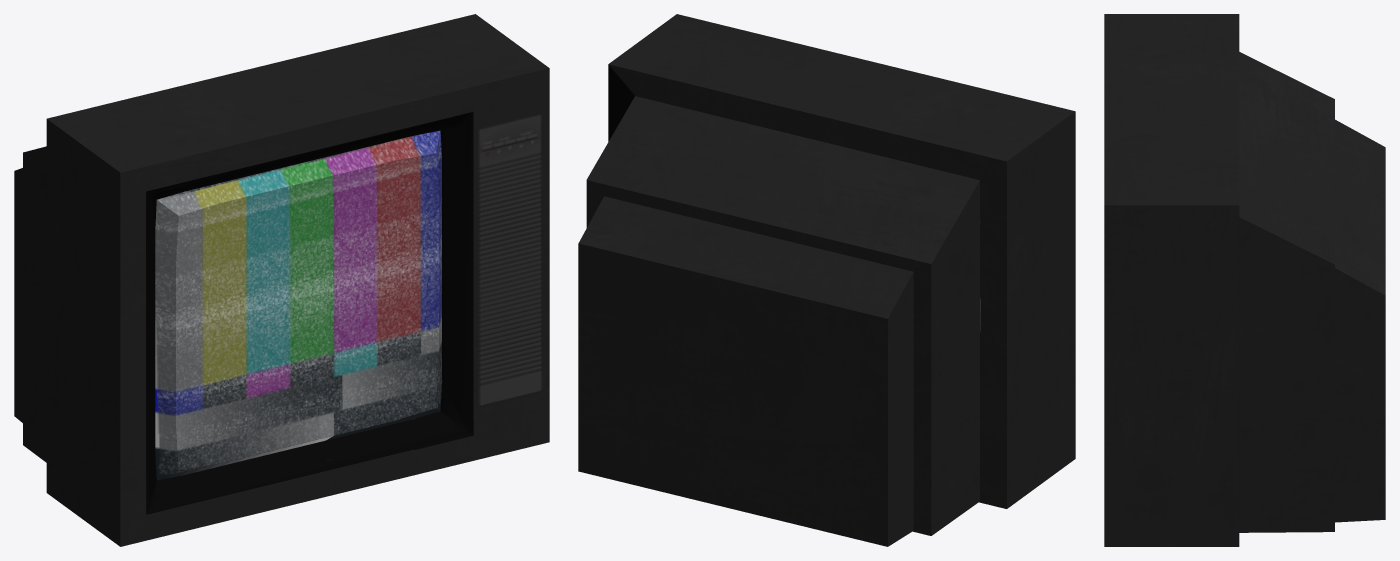
3 views of the same model, side by side, from view 1: azimuth 30°, elevation 25°; view 2: azimuth 150°, elevation 25°; view 3: azimuth 270°, elevation 25° (orthographic). The views are drawn at different scales.
Visible parts, largest first — view 1: pCube1; view 2: pCube1; view 3: pCube1.
Boxes of the visible parts, box(x1,y1,x2,y2) form: pCube1: box(14, 14, 549, 546); pCube1: box(578, 14, 1075, 546); pCube1: box(1104, 14, 1385, 546).
Size of the model in its own units: 139 by 116 by 86.22.
Materials: 1 (1 with a texture image).
